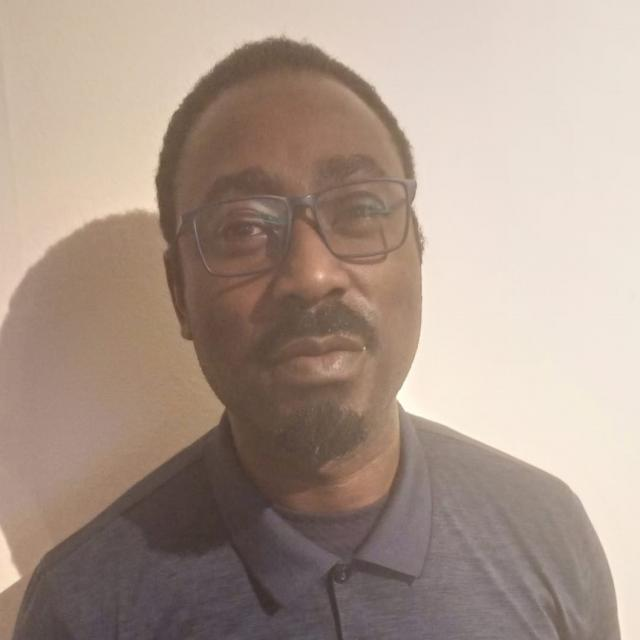sad: (148, 38, 430, 481)
